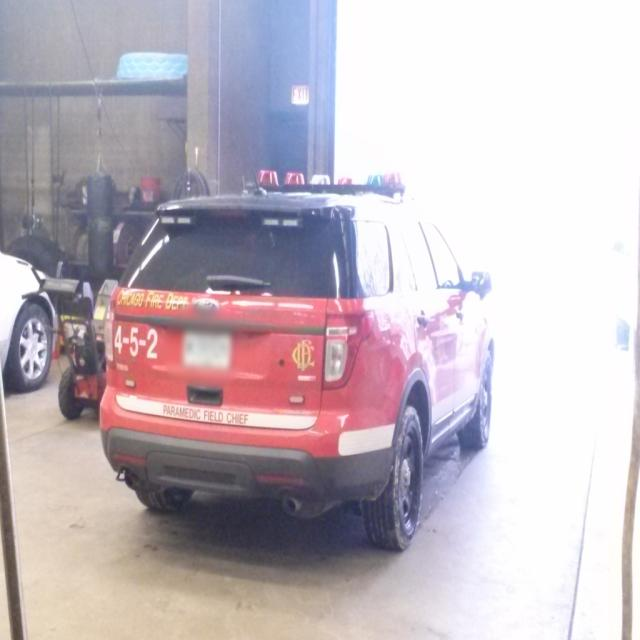car: (100, 167, 492, 553)
